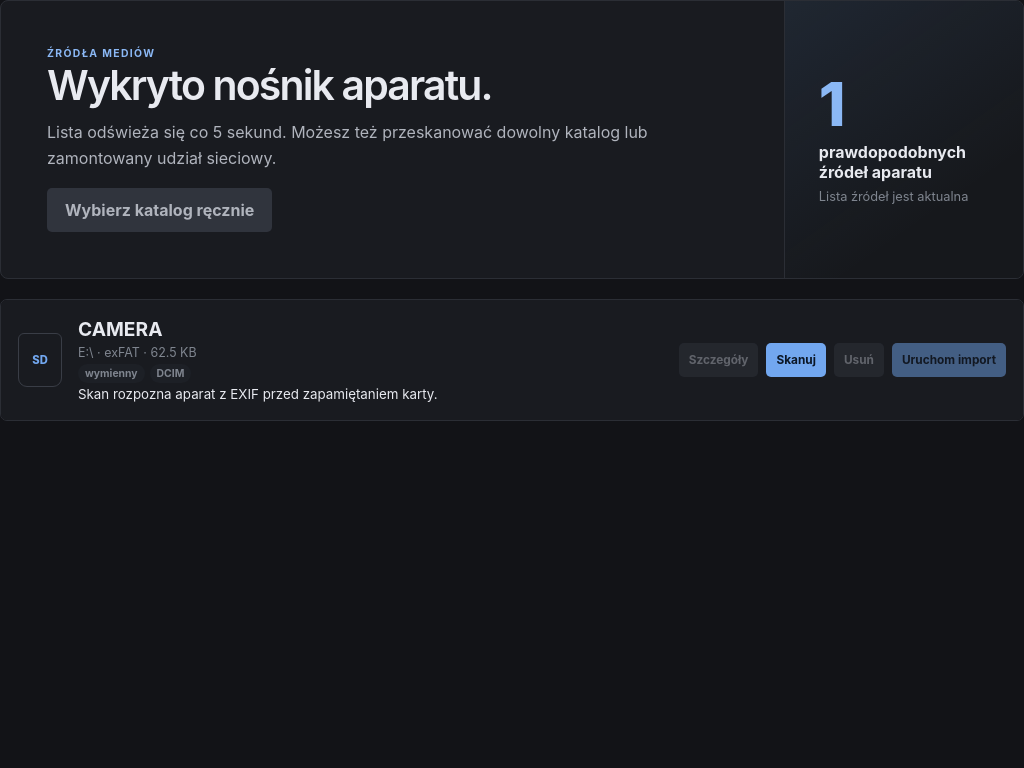
Test: SourceScanner › streams discovered photos into a live preview before completion
This screenshot has width=1024, height=768.
Step 1. Click the button "Skanuj" → (796, 360), box [766,342,826,376]
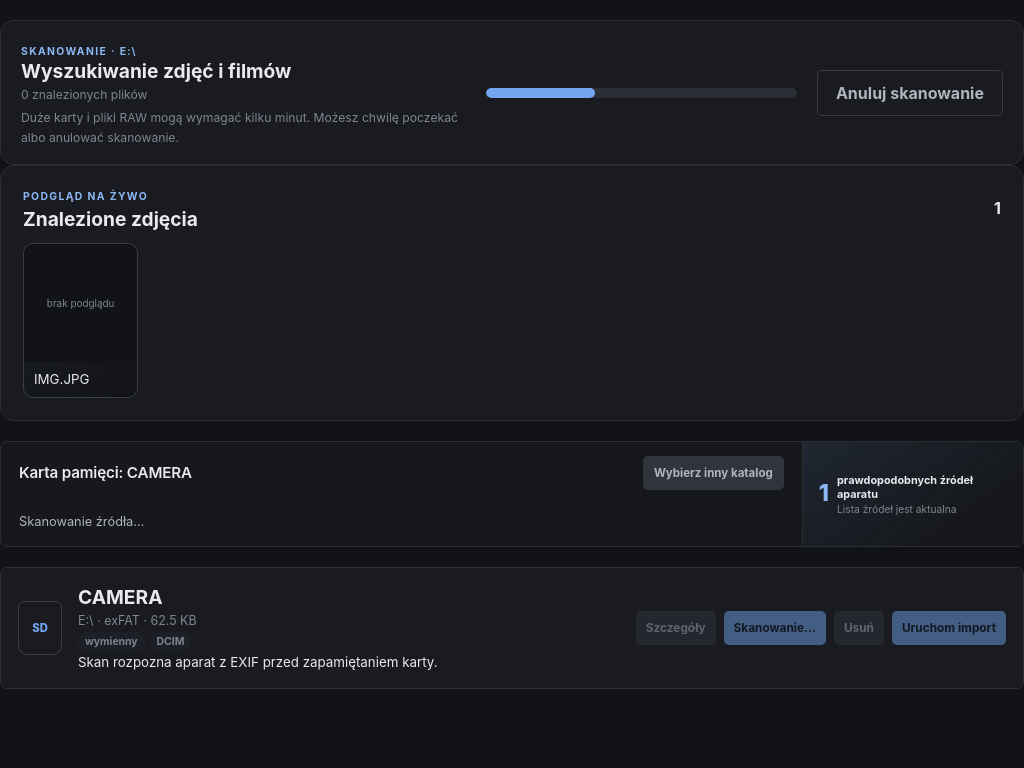
Expected: the text "IMG.JPG" is shown, [34,371,90,387]
